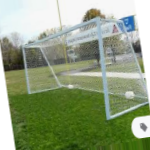goals: (20, 15, 149, 117)
